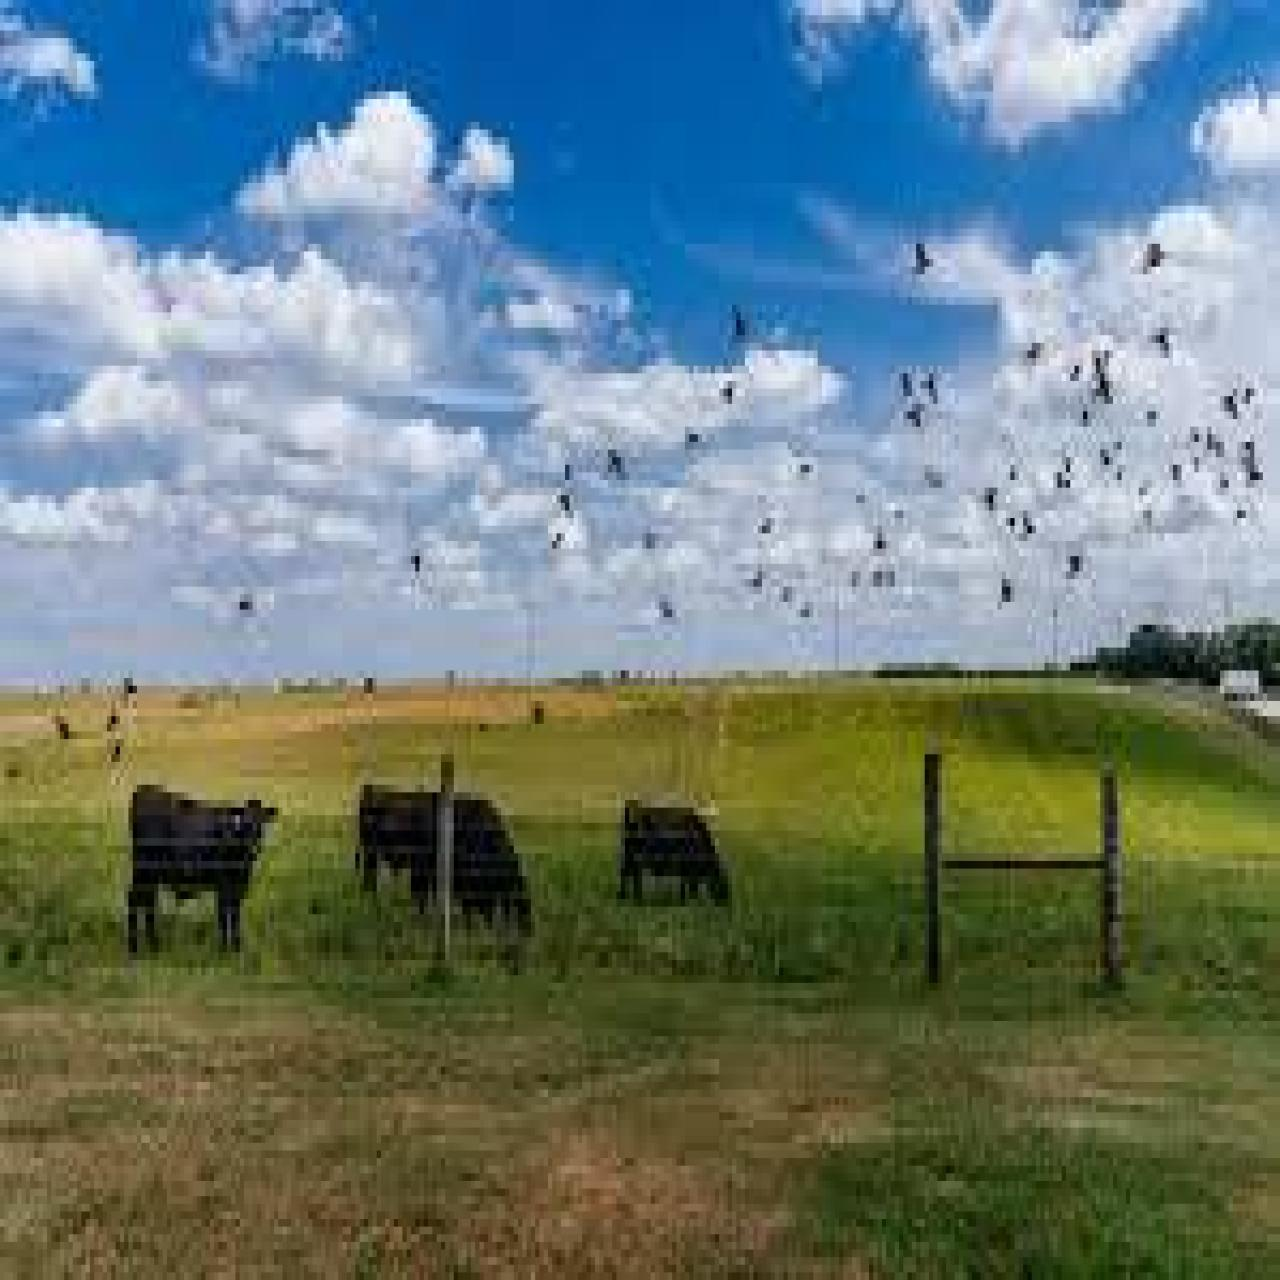cow: (124, 781, 282, 956), (404, 785, 537, 945), (619, 792, 734, 914), (350, 777, 441, 907)
